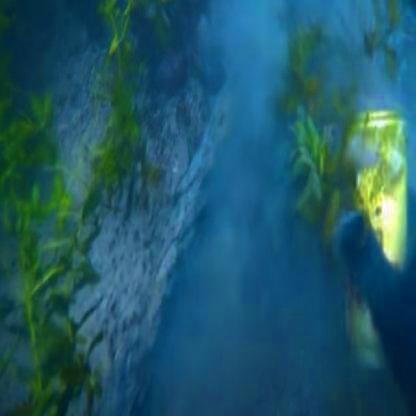can: (338, 100, 406, 388)
